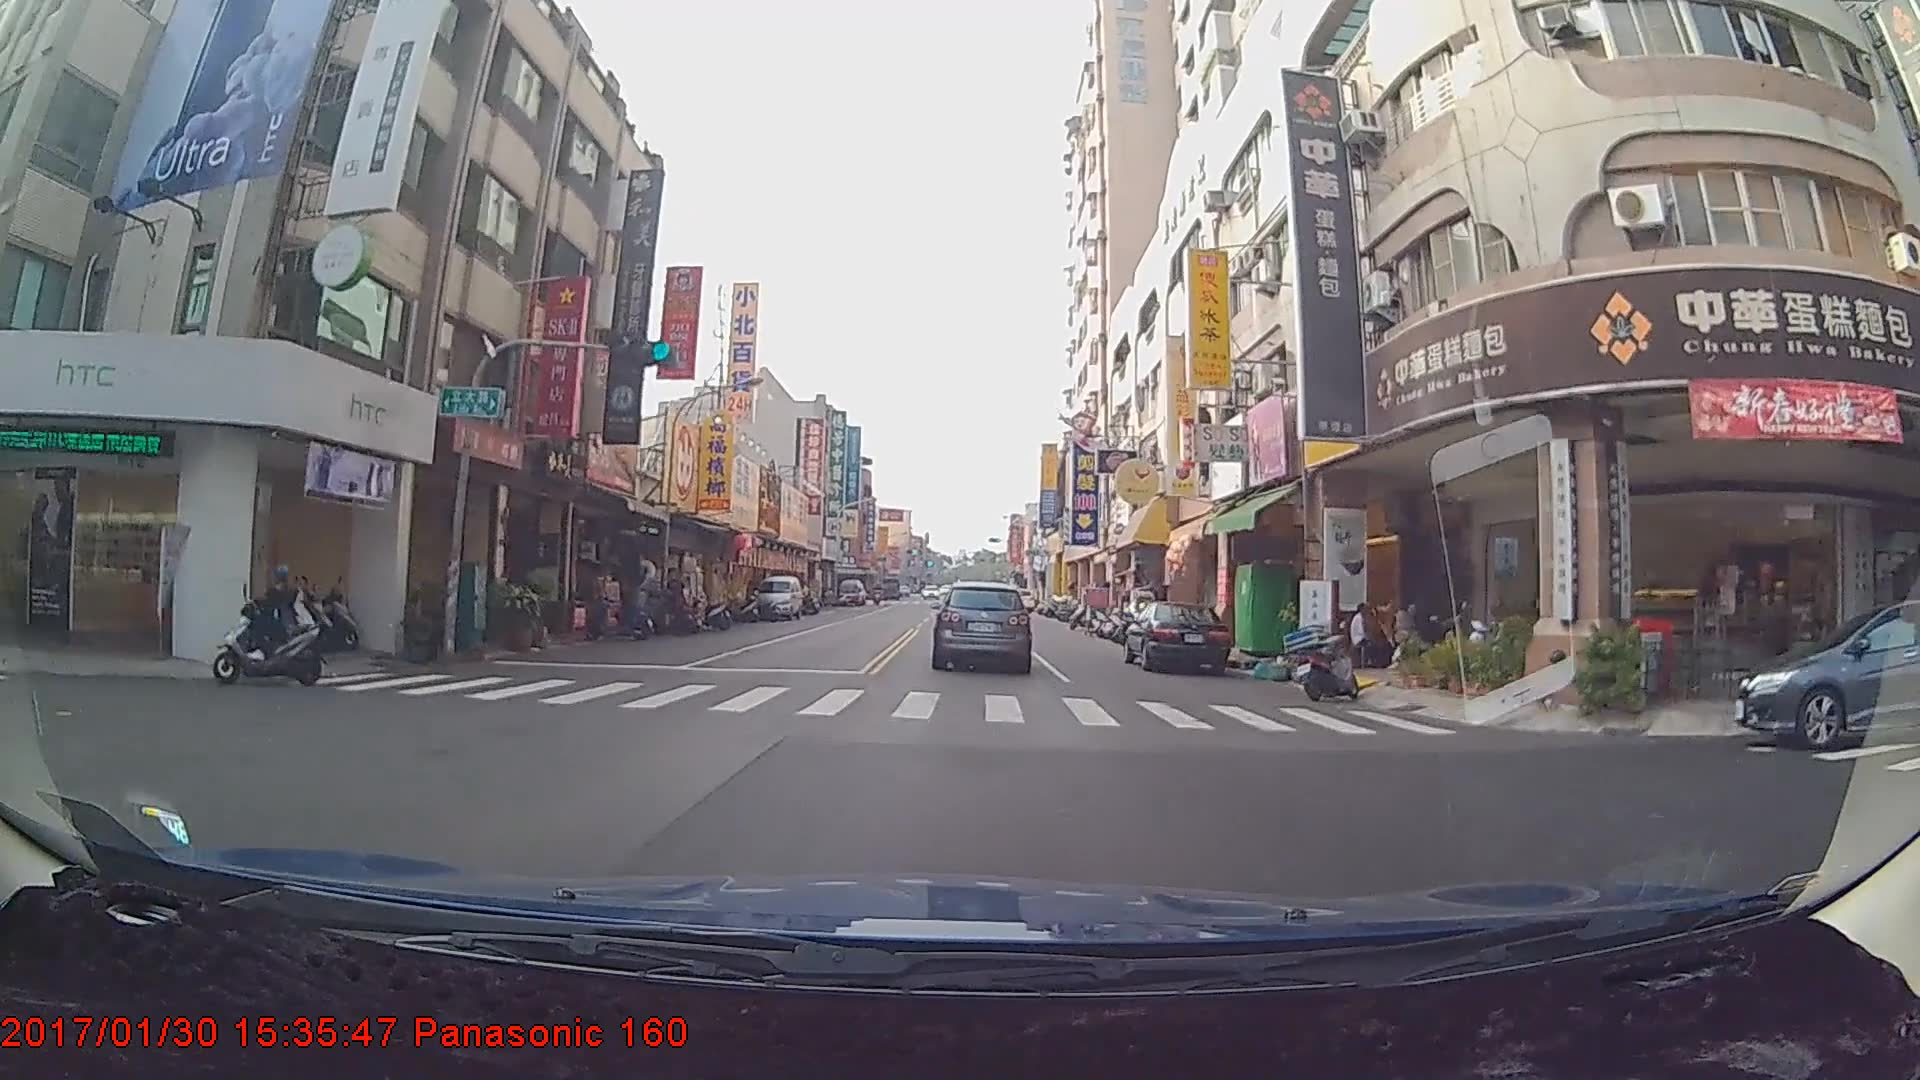pedestrian: (1383, 598, 1418, 672), (1346, 598, 1378, 667)
rider: (213, 560, 333, 684)
vehicle: (1734, 600, 1920, 749), (933, 583, 1031, 670), (1127, 599, 1229, 673), (749, 573, 801, 619), (838, 576, 868, 607)
